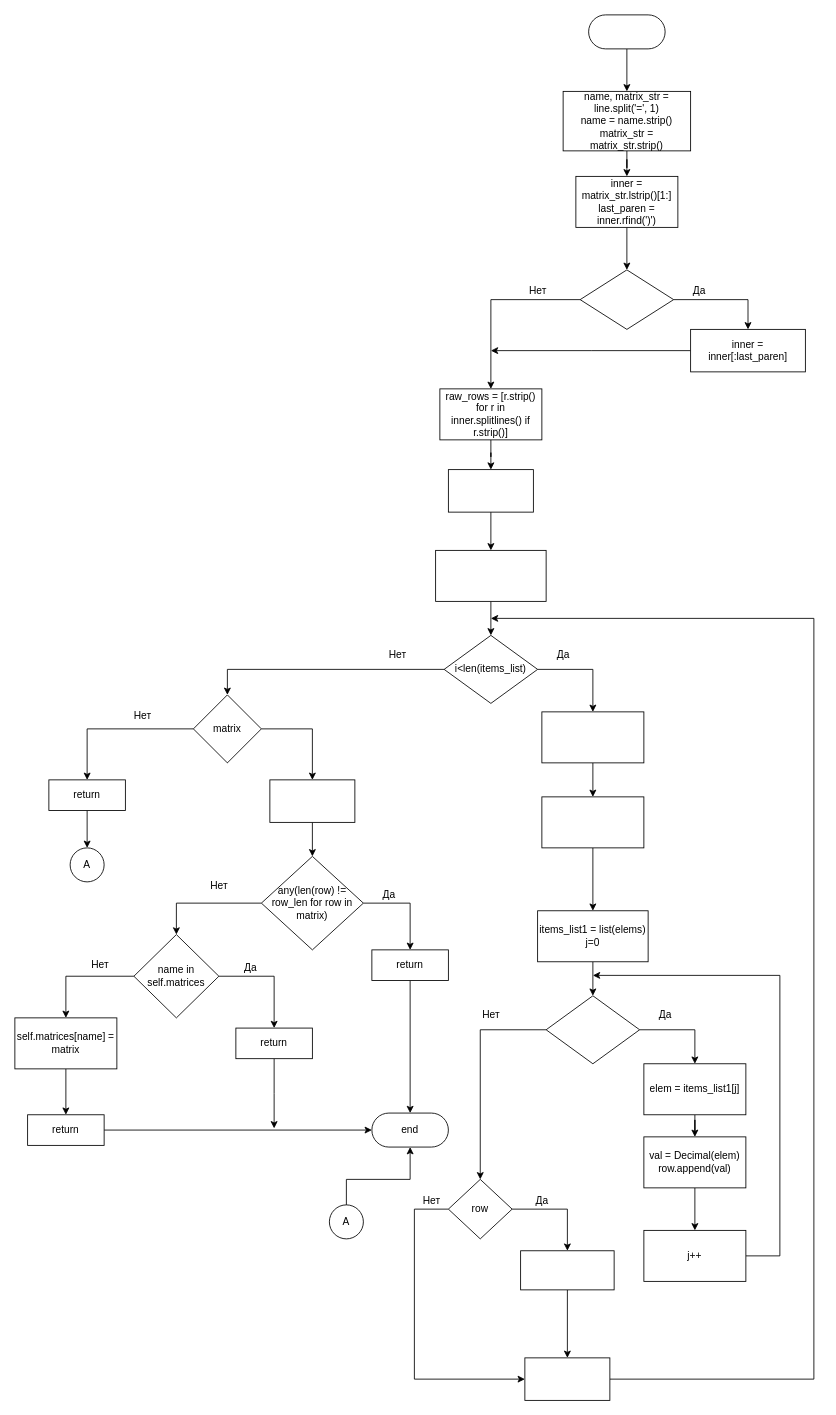
Some shapes in this 836 by 1415 pixel diagram are drawn without their labels. The centre of each missing label's shape, as x and y in pixels:
"begin" belongs at point 626,31.
"elems = row_str.split() row: List[Decimal] = []" belongs at point 592,822.
"i++" belongs at point 567,1378.
"items_list = list(raw_rows) i=0" belongs at point 490,575.
"j<len(items_list1)" belongs at point 592,1029.
"last_paren != -1" belongs at point 626,299.
"matrix.append(row)" belongs at point 567,1270.
"matrix: Matrix = []" belongs at point 490,490.
"row_len = len(matrix[0])" belongs at point 312,800.
"row_str = items_list[i]" belongs at point 592,737.
